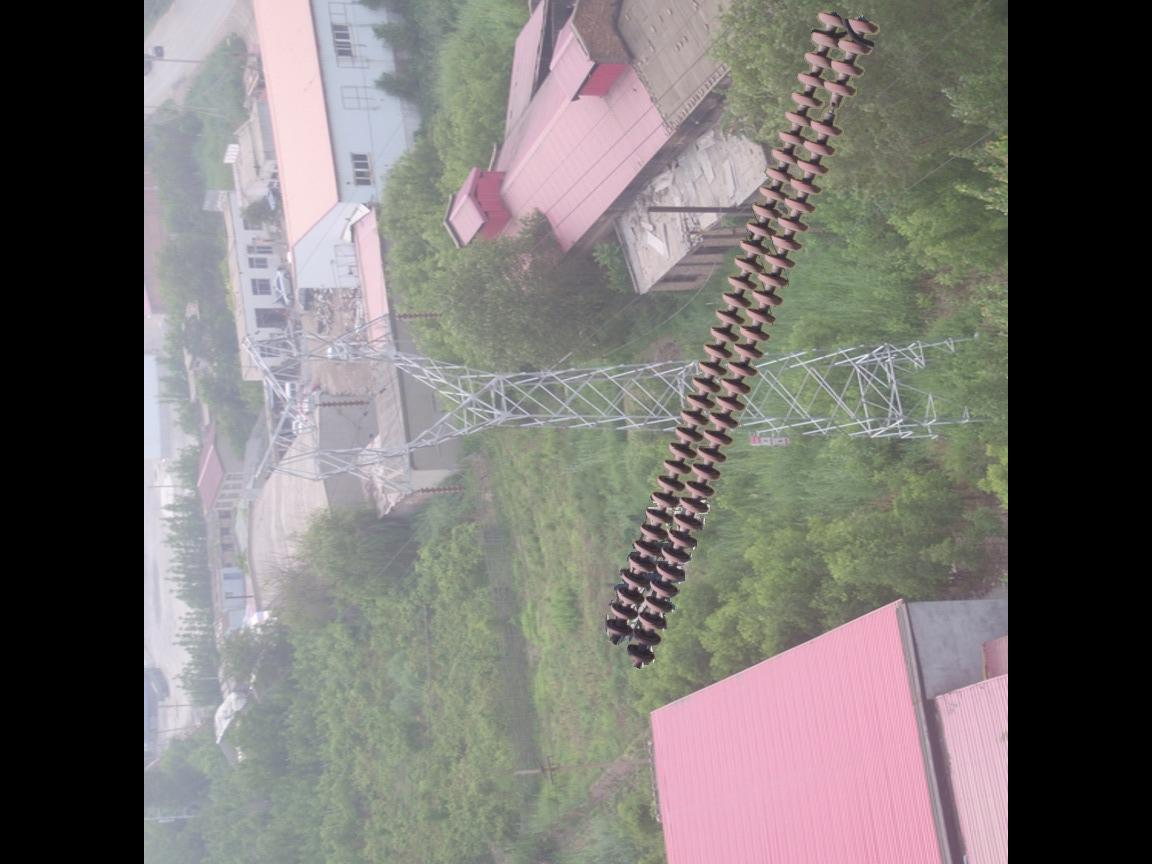insulator: (599, 2, 886, 669)
insulator_stringdrop: (807, 77, 857, 142)
